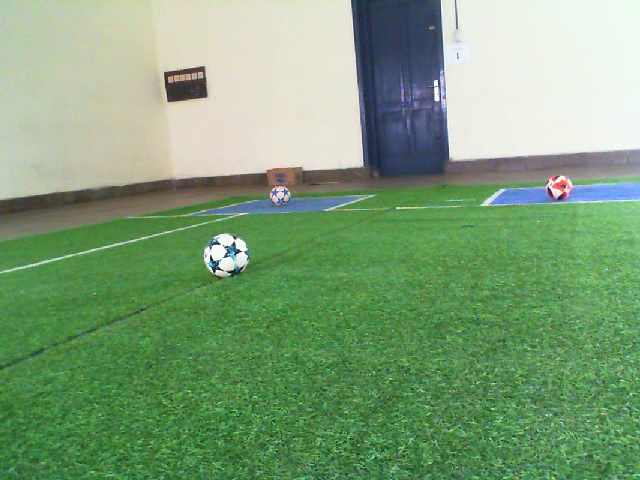ball: (202, 231, 250, 279), (545, 173, 575, 202), (268, 184, 293, 208)
